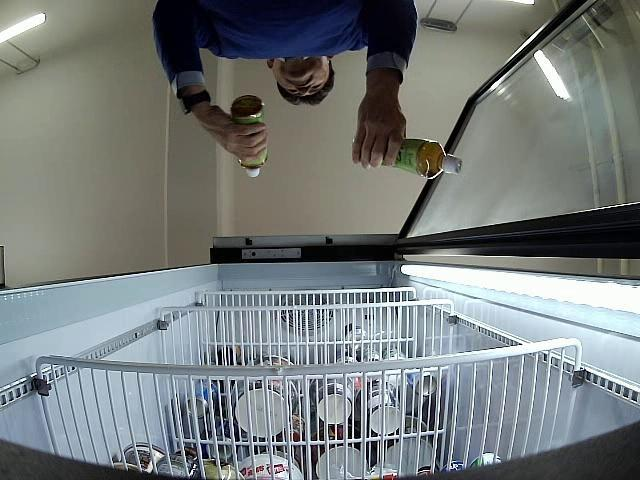19_17cha: (232, 94, 268, 178), (395, 139, 462, 180)
